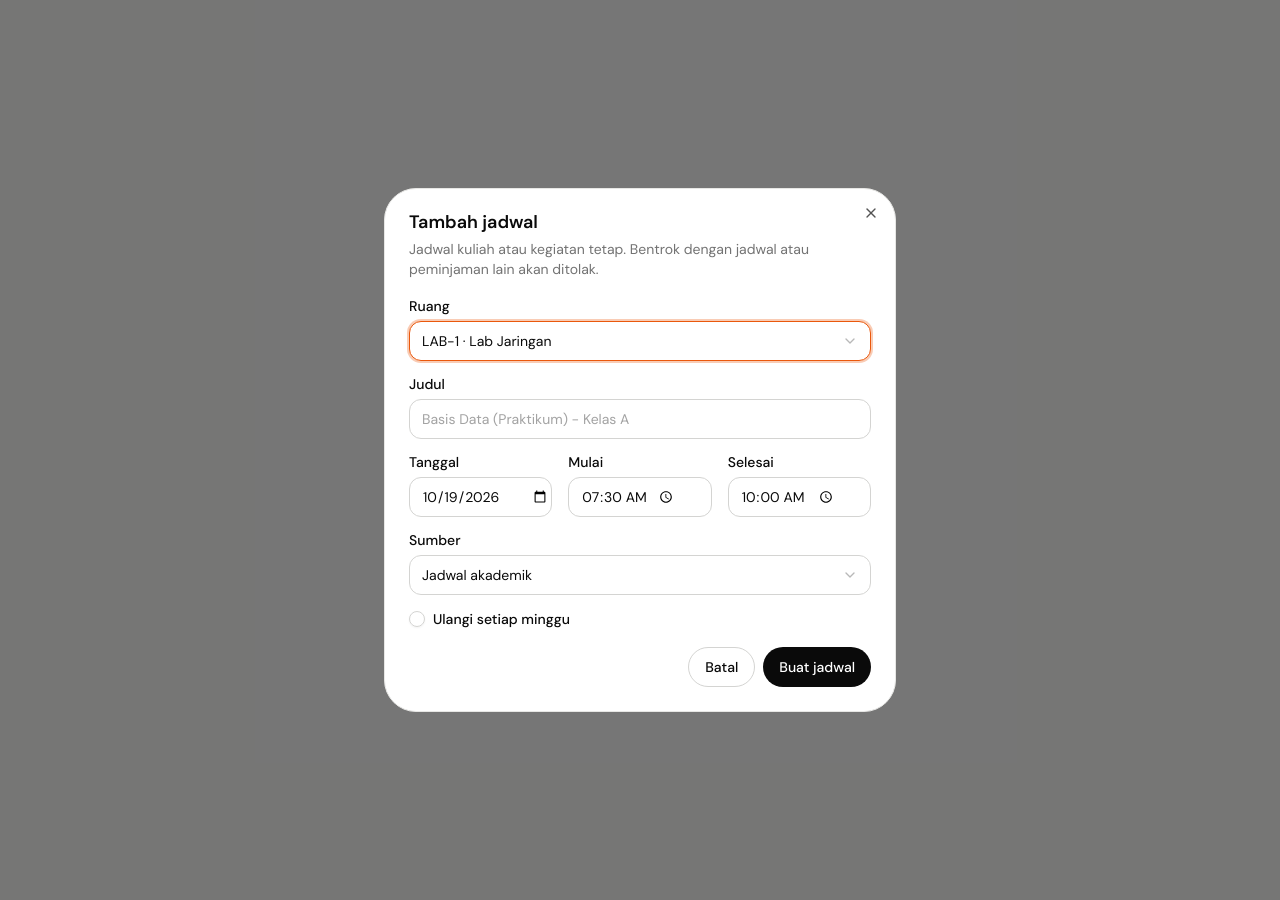
Test: admin dialogs › lists every clashing session when a weekly schedule conflicts
Step 1. Type "Basis Data" into the field labelled "Judul" → (640, 419), box x1=409 y1=399 x2=871 y2=439
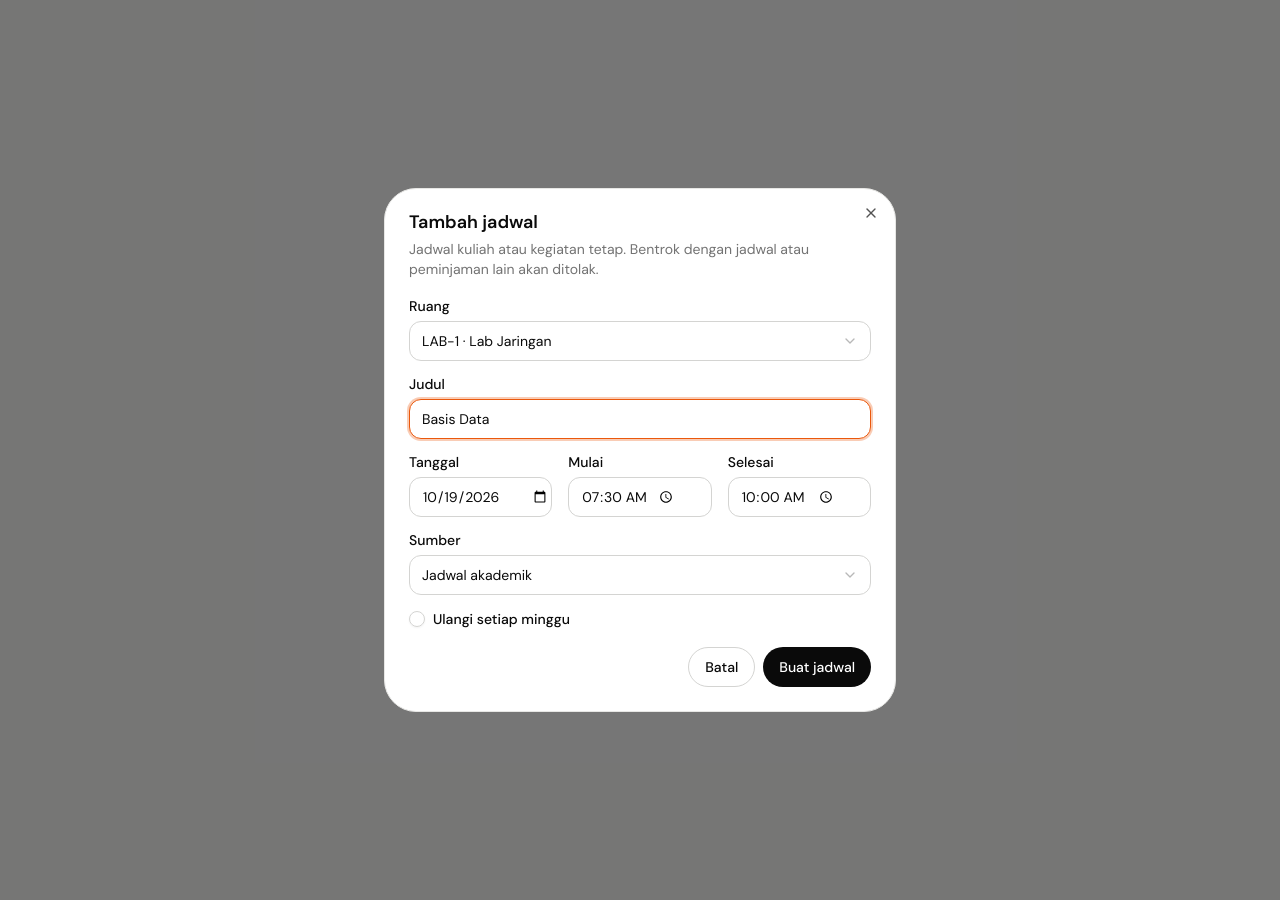
Step 2. Click the checkbox named "Ulangi setiap minggu" → (417, 619), box x1=409 y1=611 x2=425 y2=627
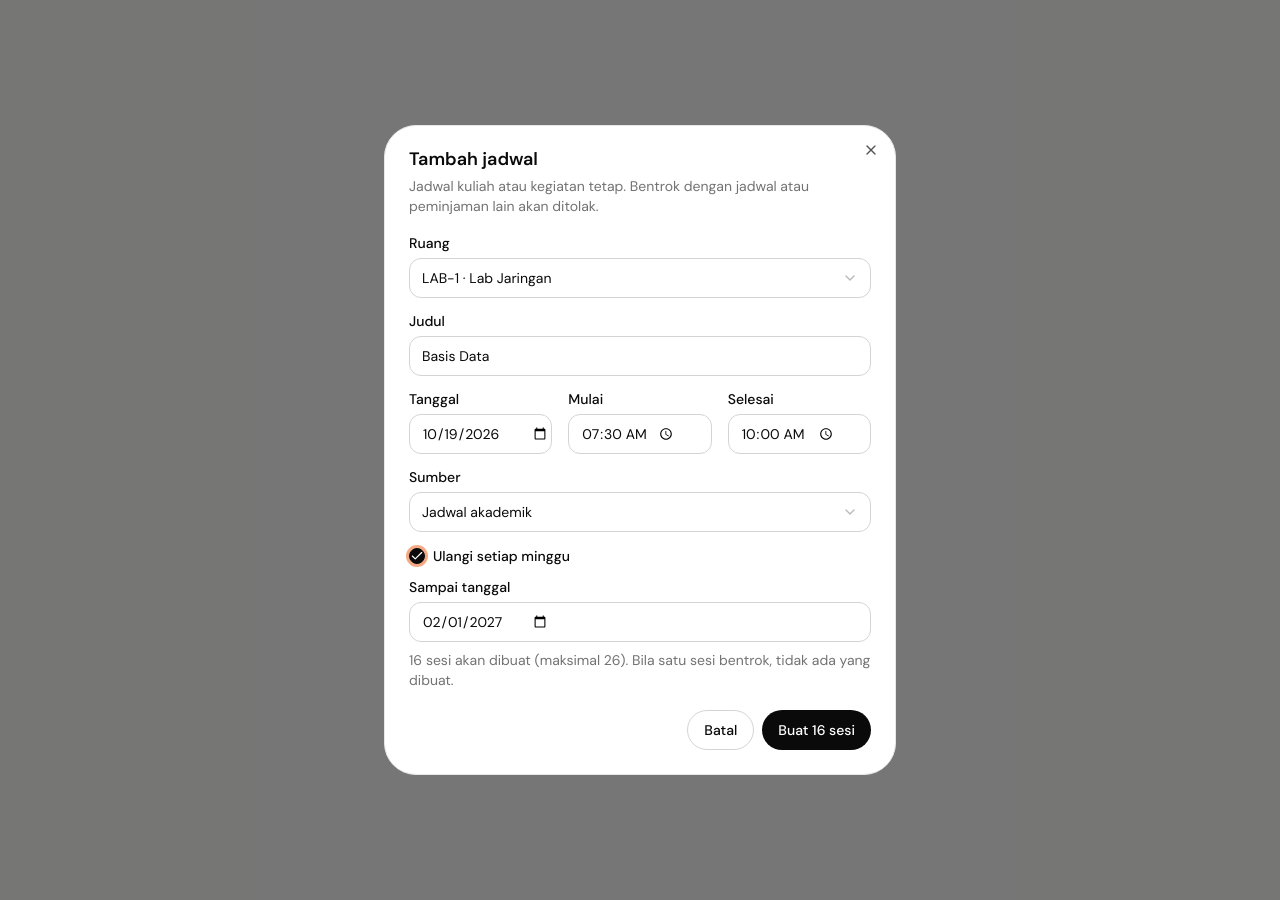
Expected: the text "16 sesi akan dibuat" is shown, x1=409 y1=651 x2=870 y2=689
Step 3. Click the button "Buat 16 sesi" → (817, 730), box x1=762 y1=710 x2=871 y2=750
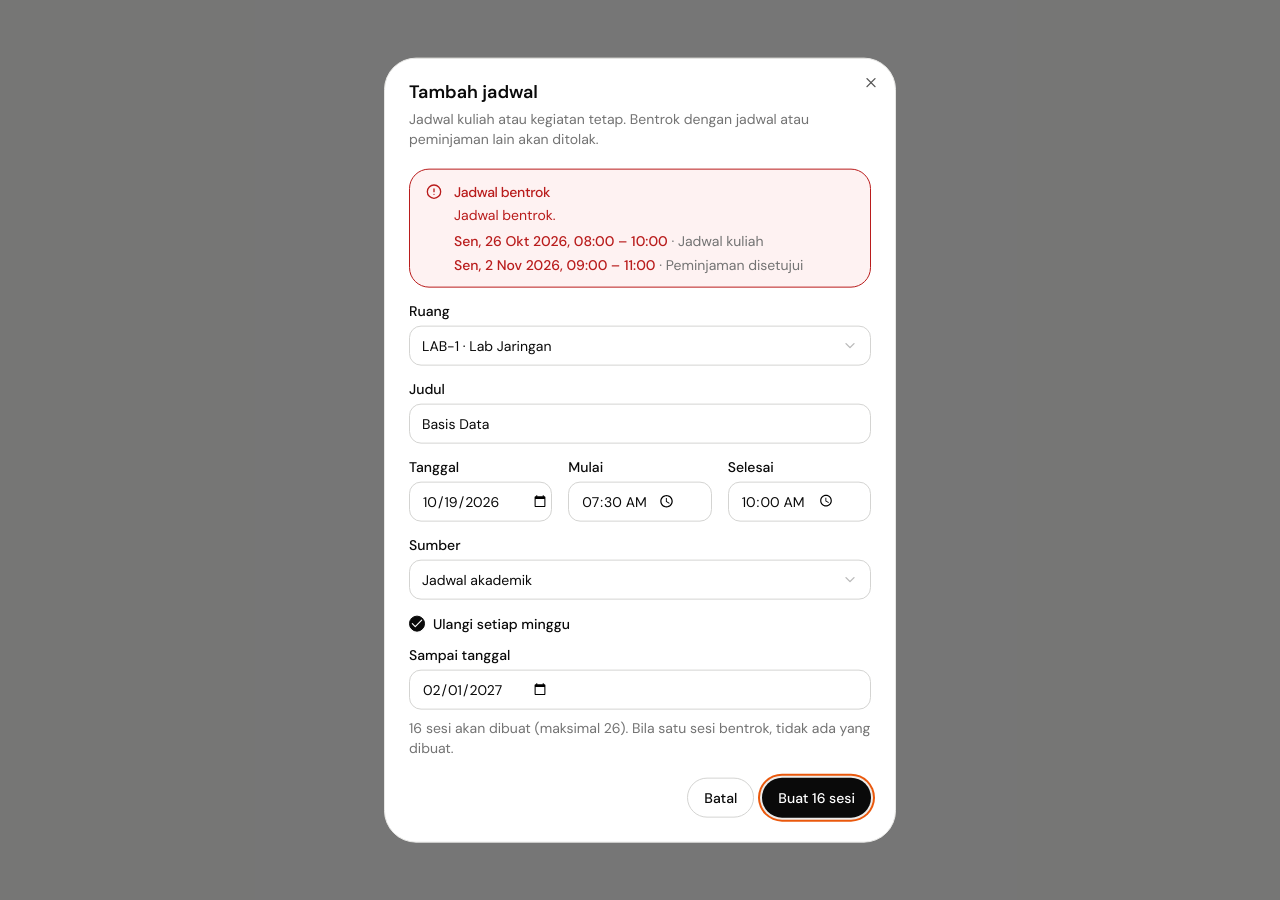
Expected: the text "Sen, 26 Okt 2026, 08:00 – 10:00" is shown, x1=454 y1=231 x2=668 y2=249
Expected: the text "Sen, 2 Nov 2026, 09:00 – 11:00" is shown, x1=454 y1=255 x2=656 y2=273
